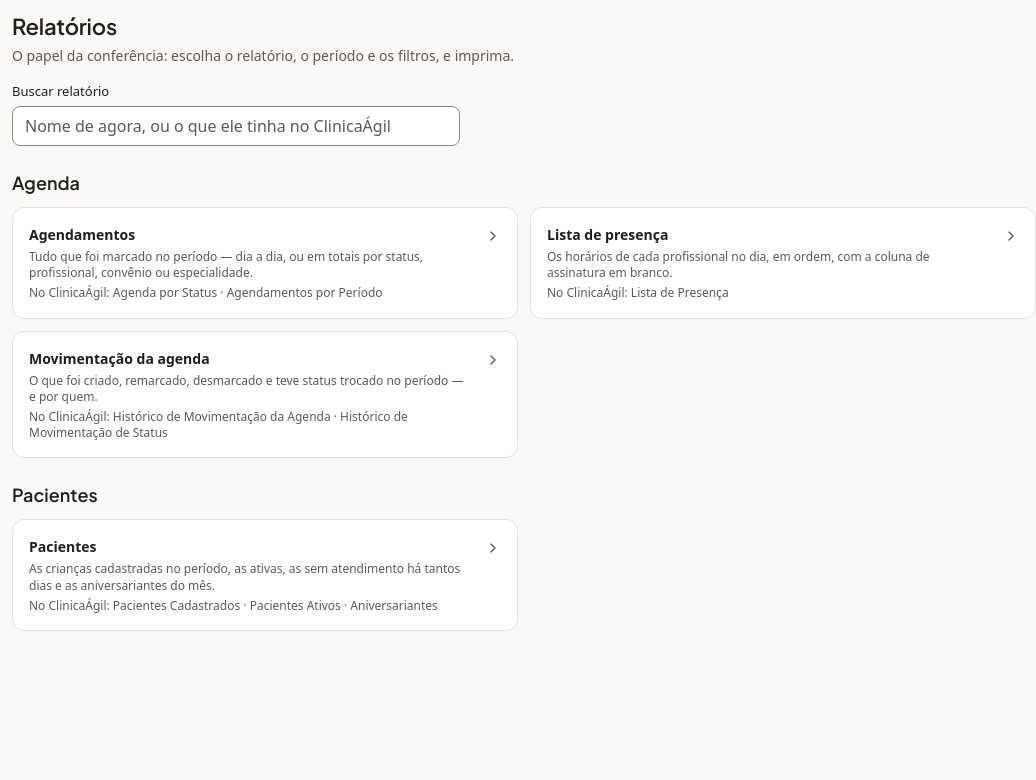
Catálogo de relatórios — cartões por categoria, busca e permissão › deve achar o cartão pelo nome antigo do ClinicaÁgil
This screenshot has width=1036, height=780.
# ACT — a recepção procura pelo nome que decorou
Type "agenda por status" into the search field labelled "Buscar relatório" at (236, 126), box [12,106,460,146]
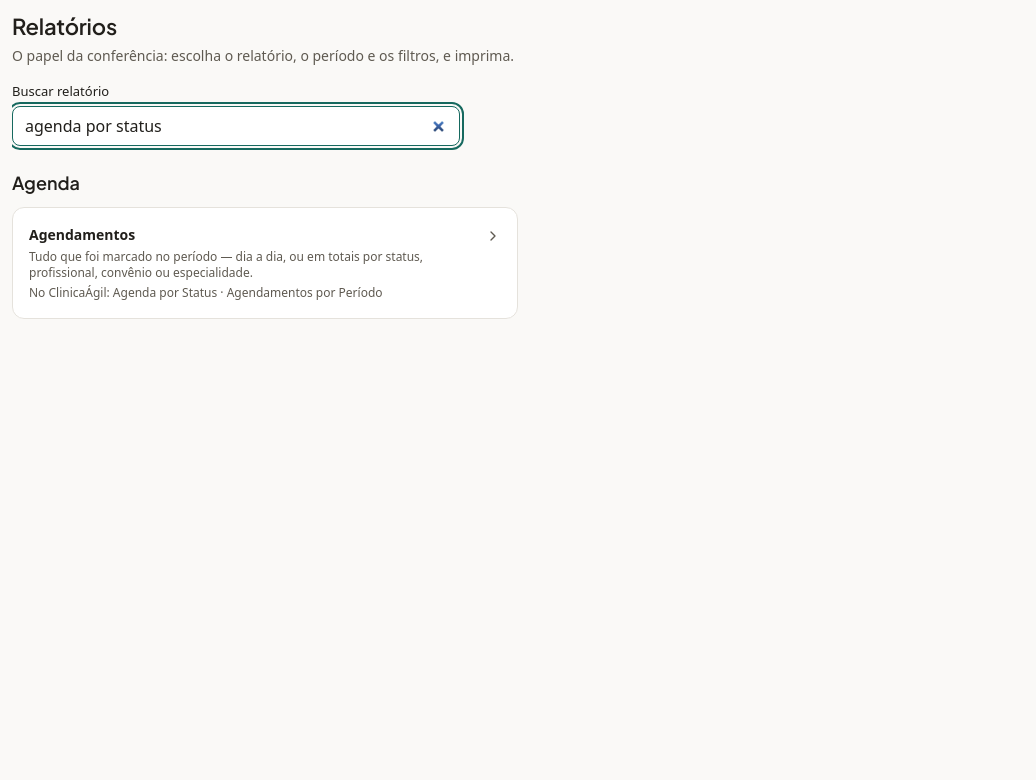
Expected: the number of links is 1, [12,207,518,319]
Expected: the heading "Pacientes" is gone
